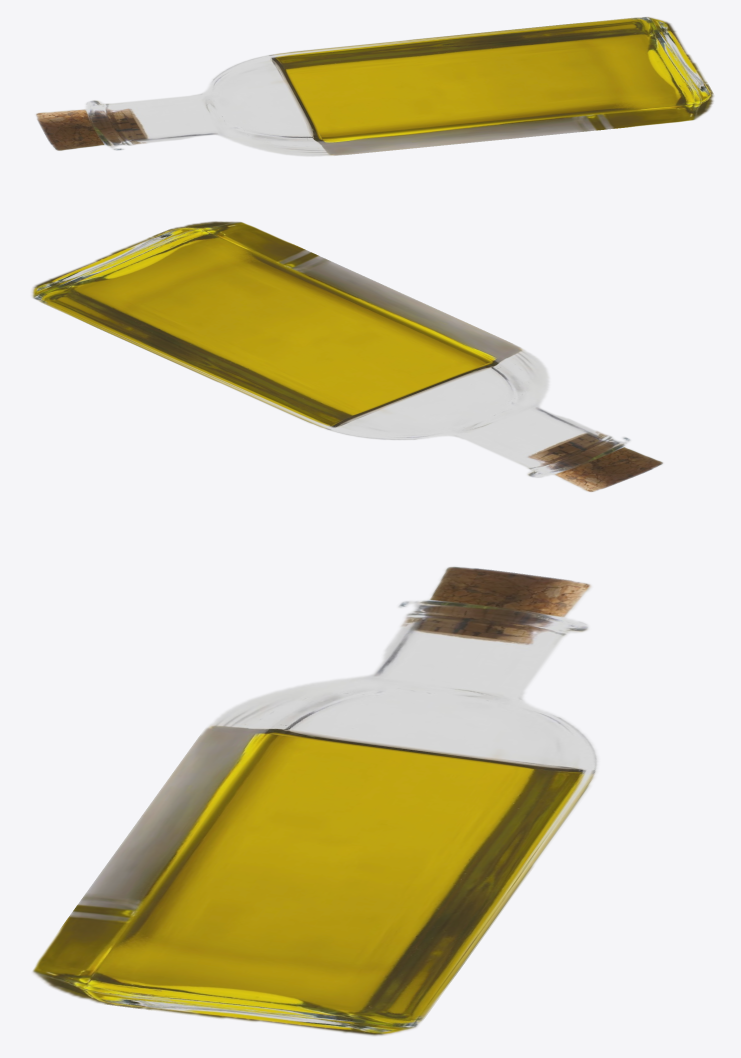
Rendered from azeite.glb.
3 views of the same model, one above another, from view 1: azimuth 30°, elevation 25°; view 2: azimuth 150°, elevation 25°; view 3: azimuth 270°, elevation 25° (orthographic). The views are drawn at different scales.
Parts seen in each view (by area): view 1: azeite; view 2: azeite; view 3: azeite.
Boxes of the visible parts, bbox=[...] form: azeite: bbox=[35, 16, 713, 156]; azeite: bbox=[31, 221, 663, 492]; azeite: bbox=[32, 566, 599, 1035].
Bounding box in the file's own units: 0.2041 × 0 × 0.1245.
Materials: 1 (1 with a texture image).
